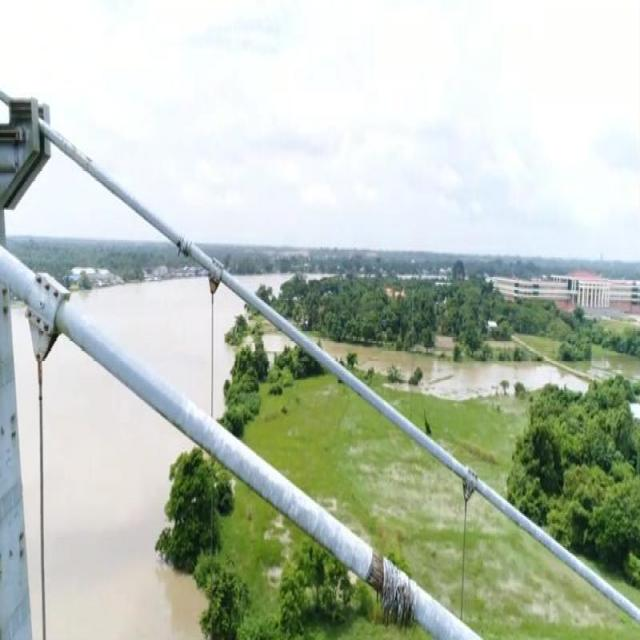corrosion: (365, 550, 416, 632), (176, 233, 192, 258), (208, 270, 219, 301), (36, 348, 44, 386), (462, 480, 473, 500), (35, 274, 41, 286), (44, 280, 50, 292), (44, 322, 51, 332), (38, 326, 44, 337), (26, 307, 31, 319), (36, 314, 41, 324), (52, 290, 58, 298)
